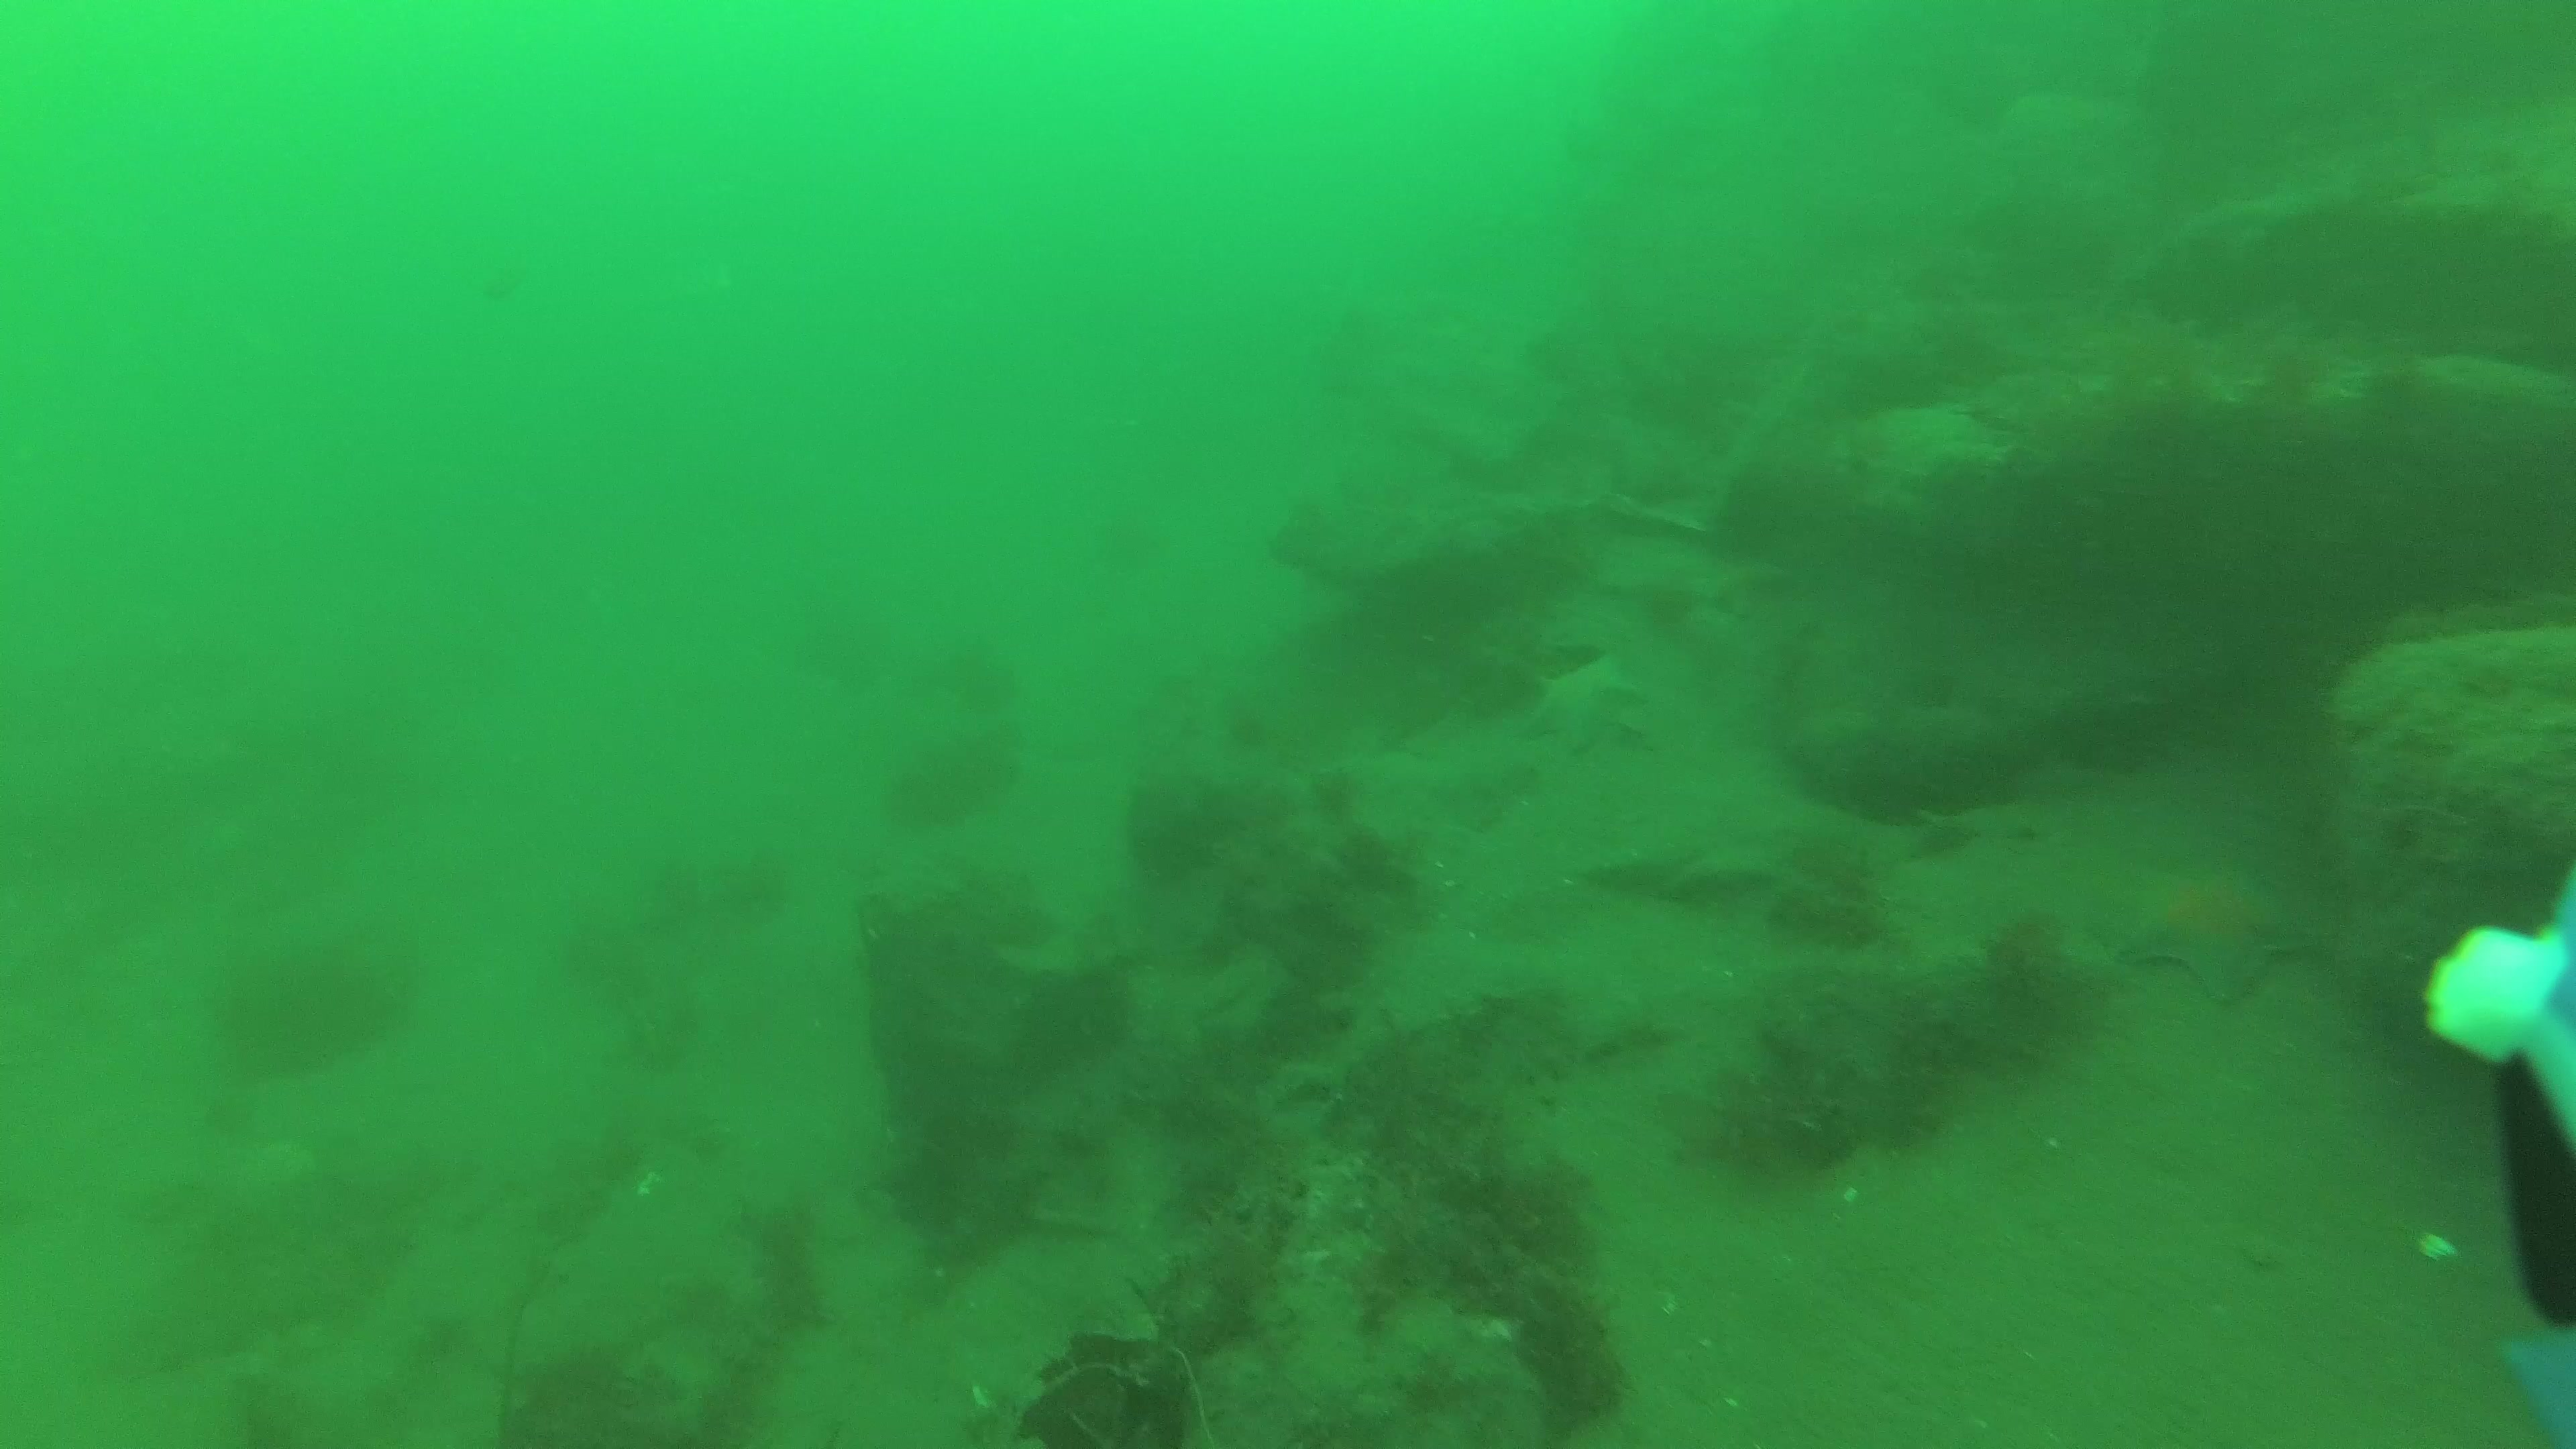starfish: (2123, 858, 2330, 1008), (1520, 651, 1638, 750)
